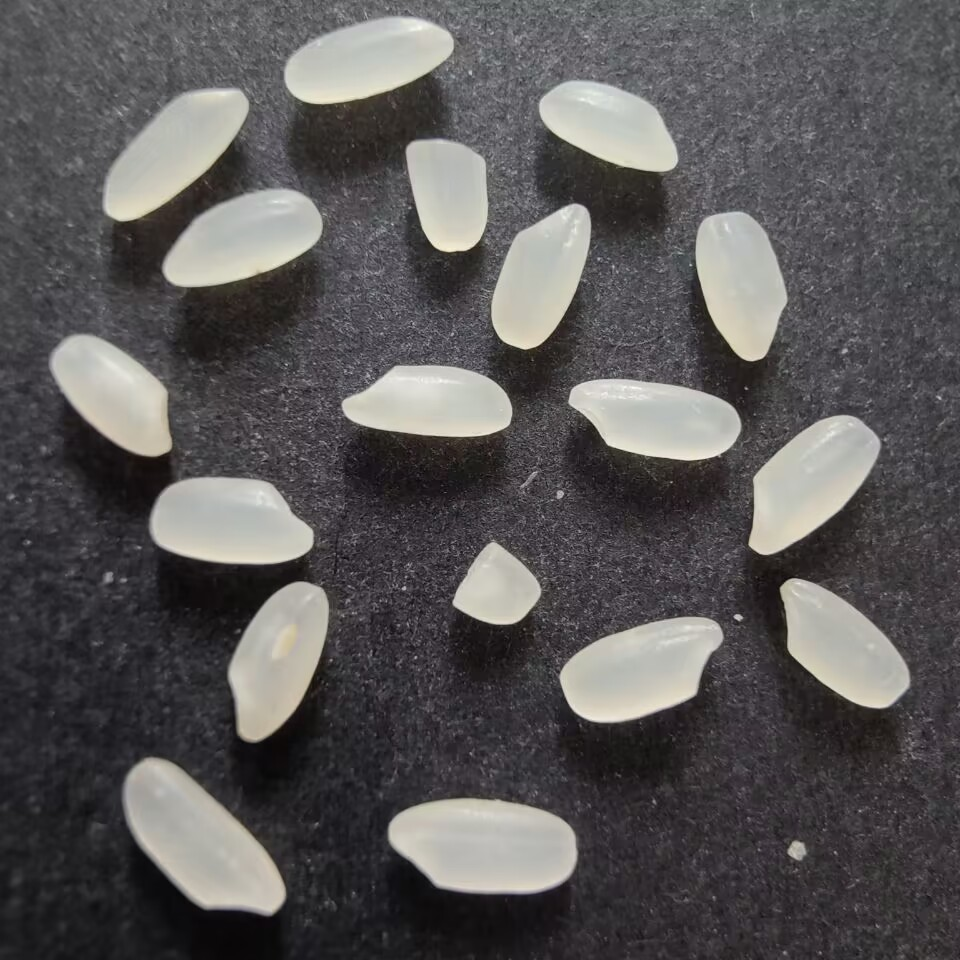broken: (398, 136, 492, 254), (450, 536, 541, 630)
rice: (121, 754, 292, 918), (96, 81, 251, 227), (739, 412, 884, 556), (382, 794, 581, 898), (775, 573, 913, 713), (556, 614, 725, 725), (223, 578, 329, 749), (278, 11, 459, 107), (159, 187, 325, 290), (144, 473, 320, 567), (44, 336, 175, 462), (562, 375, 744, 460), (488, 199, 591, 349), (694, 211, 790, 366), (534, 78, 681, 176), (338, 361, 515, 441)
